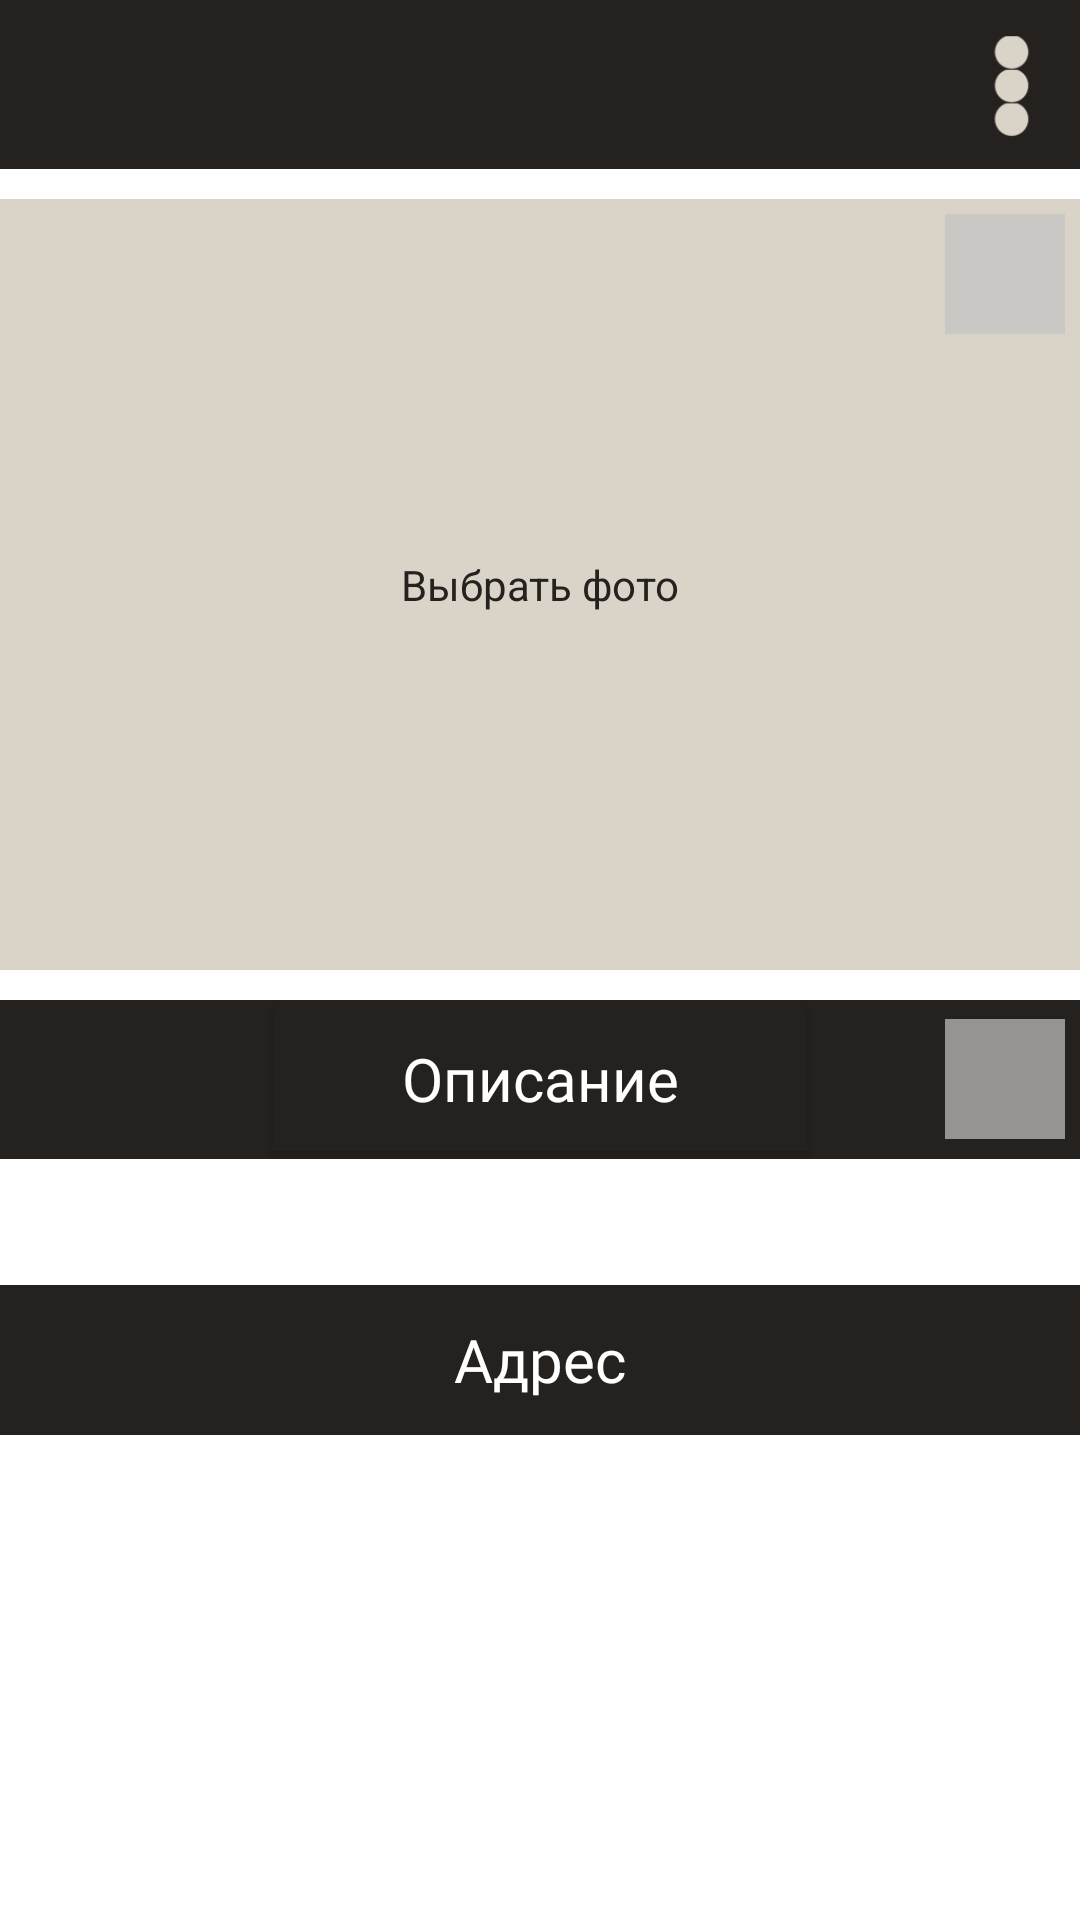

Icon click points for this 1080w x 1920h phone screenshot, format (x,y):
points: (1011,86)
